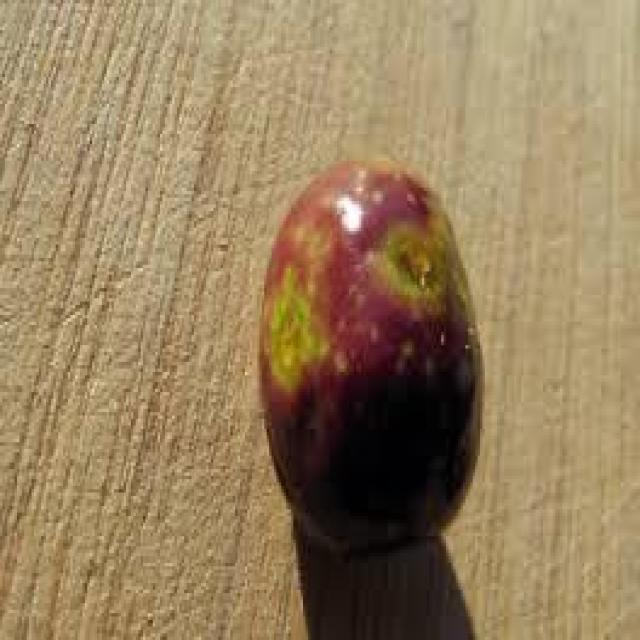Anthracnose: (262, 160, 480, 570)
